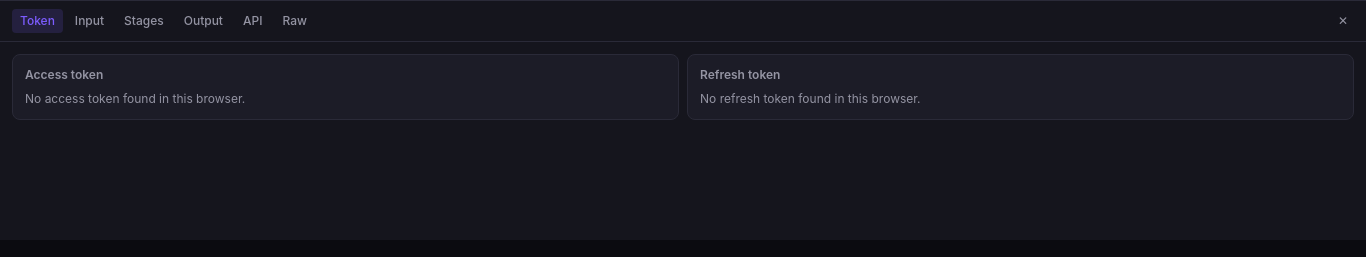
Scenario: InspectorDock › STAGES tab shows an empty state before any run
This screenshot has width=1366, height=257.
Click the button "Stages" at point(144, 21), box [116,9,172,33]
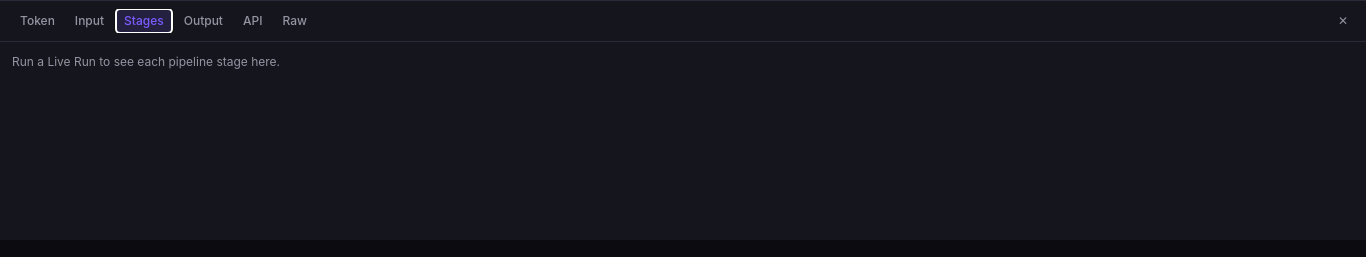
Expected: the text "Run a Live Run to see each pipeline stage here." is shown, [12,54,280,69]
